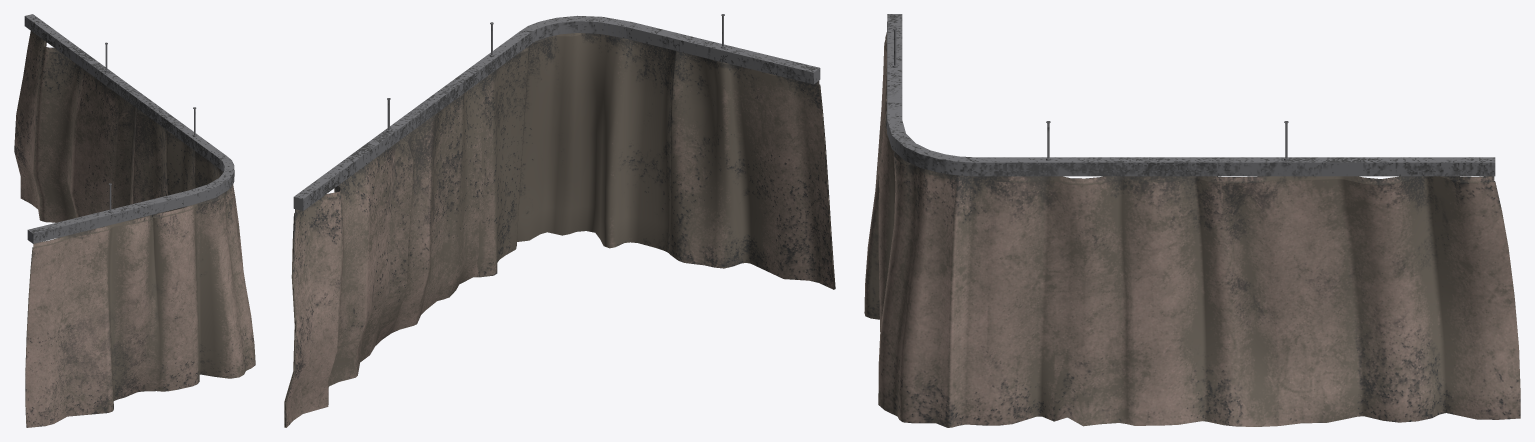
File: M_Curtains.fbx
3 views of the same model, side by side, from view 1: azimuth 30°, elevation 25°; view 2: azimuth 150°, elevation 25°; view 3: azimuth 270°, elevation 25° (orthographic). The views are drawn at different scales.
Visible parts, largest first — view 1: nursecurtains_GEO; view 2: nursecurtains_GEO; view 3: nursecurtains_GEO.
Part boxes in pixels (x1,y1,x2,y2): nursecurtains_GEO: (14, 14, 255, 427); nursecurtains_GEO: (284, 14, 835, 427); nursecurtains_GEO: (864, 14, 1520, 427).
Size of the model in its own units: 3.28 by 2.79 by 5.56.
1 material, 1 textured.
